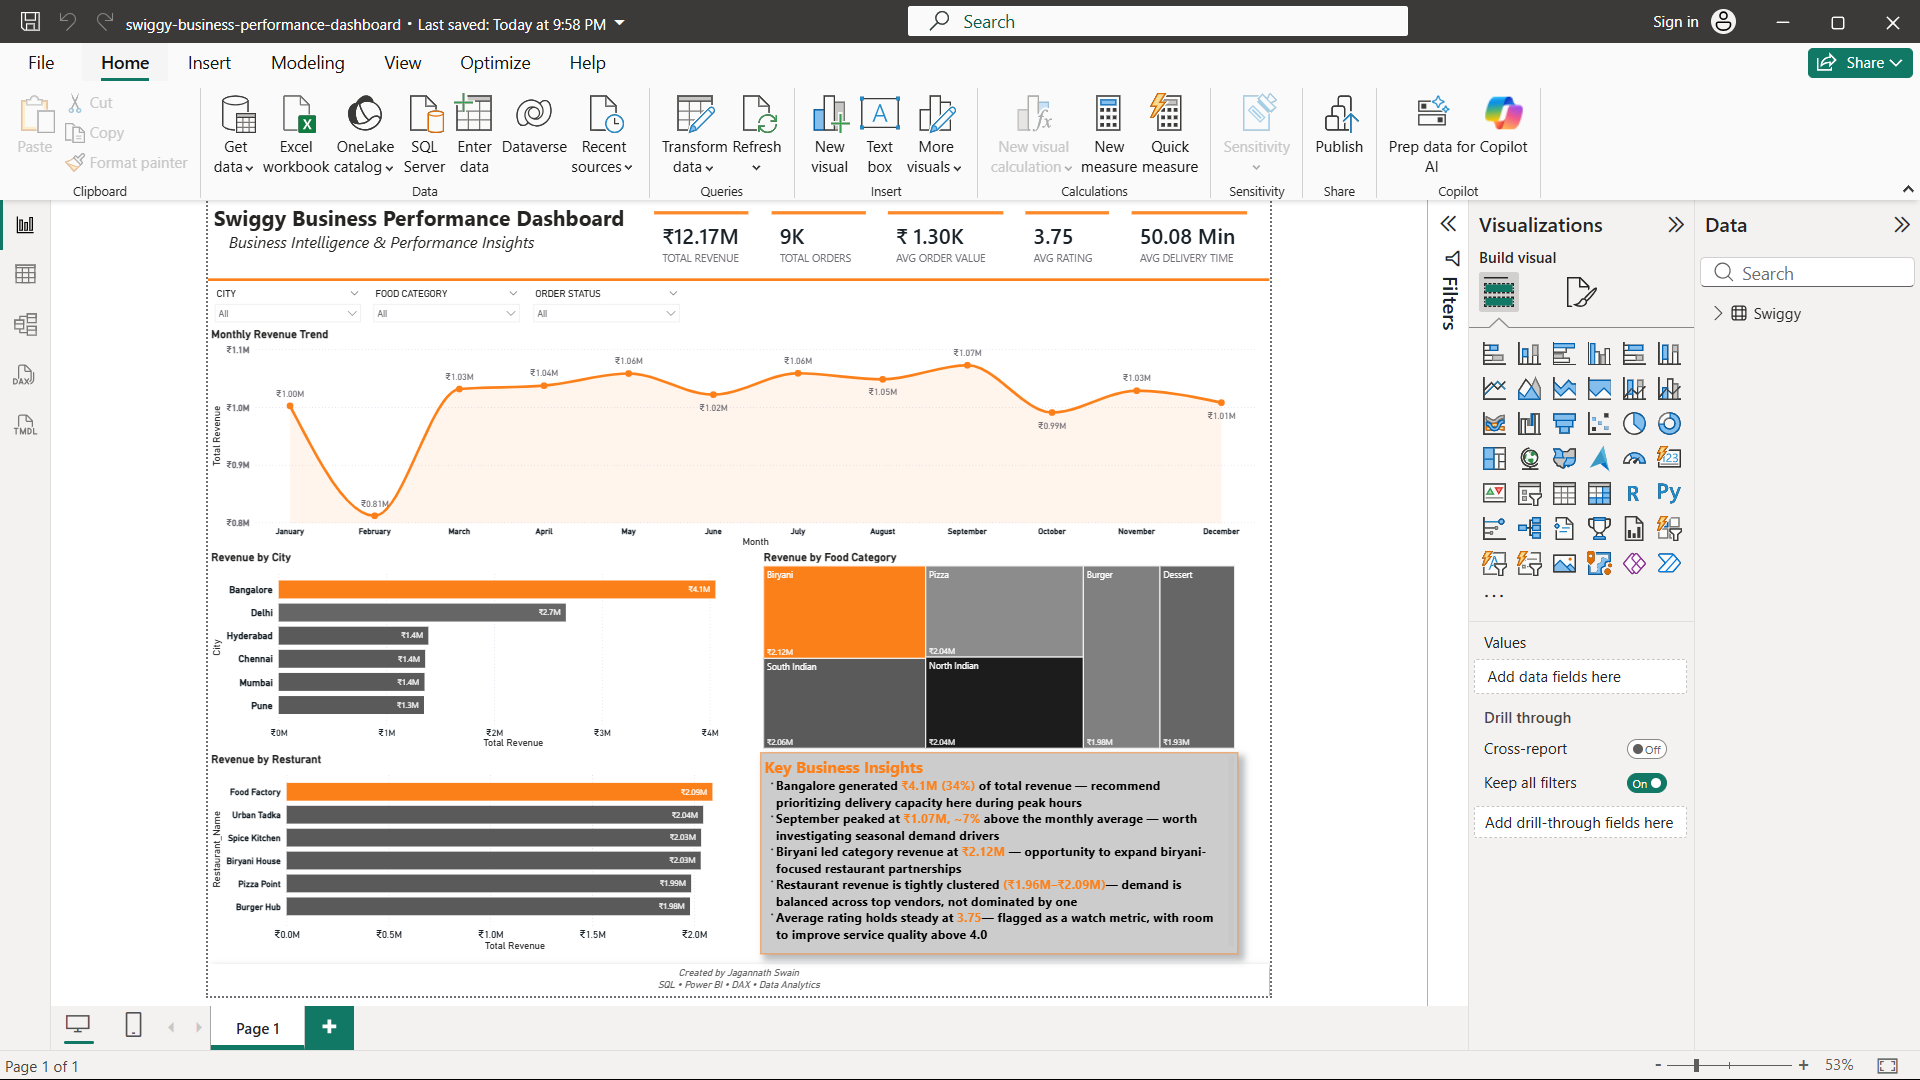

The dashboard page shown, as its layout file describes it:
{"tool":"powerbi","page":{"name":"Page 1","canvas":[1600,1200],"ordinal":0},"visuals":[{"type":"cardVisual","fields":{"Data":["Swiggy.Total Revenue"]},"box":[656,0,176,128],"z":0},{"type":"cardVisual","fields":{"Data":["Swiggy.Total Orders"]},"box":[832,0,176,128],"z":1000},{"type":"cardVisual","fields":{"Data":["Swiggy.Avg Order Value"]},"box":[1008,0,208,128],"z":2000},{"type":"cardVisual","fields":{"Data":["Swiggy.Avg Rating"]},"box":[1216,0,160,128],"z":3000},{"type":"cardVisual","fields":{"Data":["Swiggy.Avg Delivery Time Display"]},"box":[1376,0,208,128],"z":4000},{"type":"textbox","box":[0,0,640,128],"z":5000},{"type":"slicer","fields":{"Values":["Swiggy.City"]},"box":[0,128,240,64],"z":6000},{"type":"slicer","fields":{"Values":["Swiggy.Food_Category"]},"box":[240,128,240,64],"z":7000},{"type":"slicer","fields":{"Values":["Swiggy.Order_Status"]},"box":[480,128,240,64],"z":8000},{"type":"lineChart","title":"Monthly Revenue Trend","fields":{"Category":["Swiggy.Order_Date.Variation.Date Hierarchy.Month"],"Y":["Swiggy.Total Revenue"]},"box":[0,192,1584,336],"z":9000},{"type":"clusteredBarChart","title":"Revenue by City","fields":{"Category":["Swiggy.City"],"Y":["Swiggy.Total Revenue"]},"box":[0,528,832,304],"z":10000},{"type":"treemap","title":"Revenue by Food Category","fields":{"Group":["Swiggy.Food_Category"],"Values":["Swiggy.Total Revenue"]},"box":[832,528,720,304],"z":11000},{"type":"clusteredBarChart","title":"Revenue by Resturant","fields":{"Category":["Swiggy.Restaurant_Name"],"Y":["Swiggy.Total Revenue"]},"box":[0,832,832,304],"z":12000},{"type":"textbox","box":[832,832,720,304],"z":13000},{"type":"shape","box":[0,96,1600,48],"z":14000},{"type":"textbox","box":[0,1152,1600,48],"z":15000}]}

Visuals, with their boxes on the page's 1600x1200 design canvas (x1, y1, x2, y2). These are canvas units, not pixel positions in the 1920x1080 screenshot, which may show the page scaled, cropped or inside an application window:
cardVisual - Swiggy.Total Revenue: region(656, 0, 832, 128)
cardVisual - Swiggy.Total Orders: region(832, 0, 1008, 128)
cardVisual - Swiggy.Avg Order Value: region(1008, 0, 1216, 128)
cardVisual - Swiggy.Avg Rating: region(1216, 0, 1376, 128)
cardVisual - Swiggy.Avg Delivery Time Display: region(1376, 0, 1584, 128)
textbox: region(0, 0, 640, 128)
slicer - Swiggy.City: region(0, 128, 240, 192)
slicer - Swiggy.Food_Category: region(240, 128, 480, 192)
slicer - Swiggy.Order_Status: region(480, 128, 720, 192)
"Monthly Revenue Trend" lineChart: region(0, 192, 1584, 528)
"Revenue by City" clusteredBarChart: region(0, 528, 832, 832)
"Revenue by Food Category" treemap: region(832, 528, 1552, 832)
"Revenue by Resturant" clusteredBarChart: region(0, 832, 832, 1136)
textbox: region(832, 832, 1552, 1136)
shape: region(0, 96, 1600, 144)
textbox: region(0, 1152, 1600, 1200)
